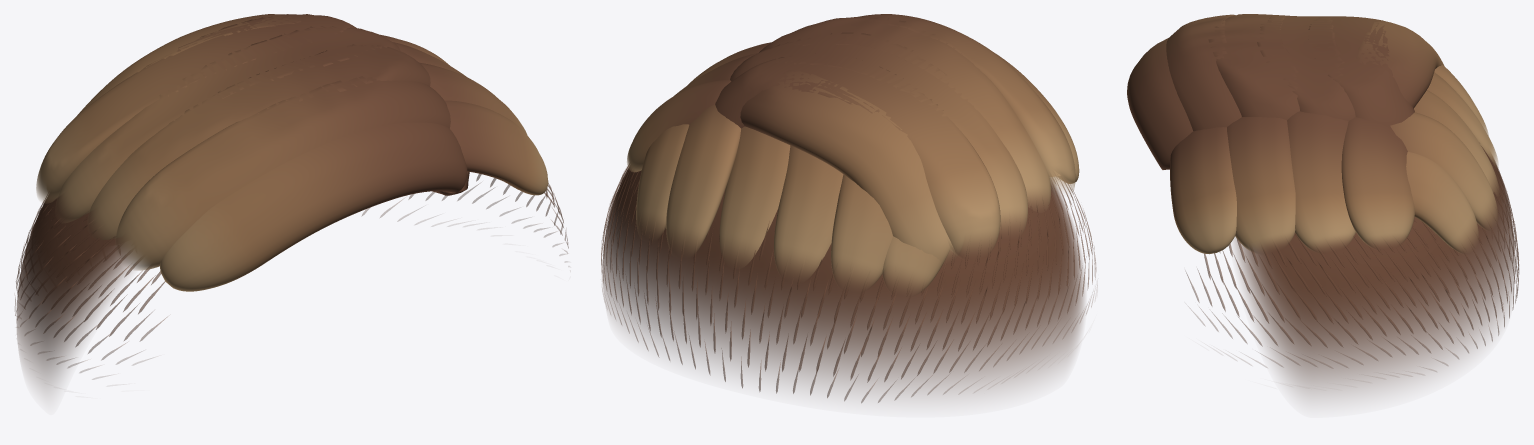
The model's file is Masculine-taper-pashmina259-hair-ombre.glb.
3 views of the same model, side by side, from view 1: azimuth 30°, elevation 25°; view 2: azimuth 150°, elevation 25°; view 3: azimuth 270°, elevation 25° (orthographic). The views are drawn at different scales.
Visible parts, largest first — view 1: 226 hair / Hair258 / sculpted side sweep 1, 226 hair / Hair258 / sculpted side sweep 0, 226 hair / Hair258 / smooth side fade, 226 hair / Hair258 / sculpted side sweep 2, 226 hair / Hair259 / directional fade marks214; view 2: 226 hair / Hair258 / smooth side fade, 226 hair / Hair258 / sculpted side sweep 0, 226 hair / Hair258 / sculpted side sweep 1, 226 hair / Hair258 / sculpted side sweep 2, 226 hair / Hair259 / directional fade marks214; view 3: 226 hair / Hair258 / smooth side fade, 226 hair / Hair258 / sculpted side sweep 0, 226 hair / Hair258 / sculpted side sweep 1, 226 hair / Hair258 / sculpted side sweep 2, 226 hair / Hair259 / directional fade marks214.
Boxes of the visible parts, left/top/right/bottom form: 226 hair / Hair258 / sculpted side sweep 1: left=56, top=26, right=548, bottom=291; 226 hair / Hair258 / sculpted side sweep 0: left=36, top=14, right=527, bottom=270; 226 hair / Hair258 / smooth side fade: left=16, top=191, right=547, bottom=392; 226 hair / Hair258 / sculpted side sweep 2: left=87, top=42, right=466, bottom=240; 226 hair / Hair259 / directional fade marks214: left=15, top=174, right=569, bottom=379; 226 hair / Hair258 / smooth side fade: left=602, top=166, right=1084, bottom=397; 226 hair / Hair258 / sculpted side sweep 0: left=666, top=14, right=1075, bottom=289; 226 hair / Hair258 / sculpted side sweep 1: left=627, top=32, right=1079, bottom=294; 226 hair / Hair258 / sculpted side sweep 2: left=636, top=16, right=1050, bottom=279; 226 hair / Hair259 / directional fade marks214: left=601, top=164, right=1097, bottom=402; 226 hair / Hair258 / smooth side fade: left=1233, top=146, right=1515, bottom=398; 226 hair / Hair258 / sculpted side sweep 0: left=1166, top=14, right=1497, bottom=253; 226 hair / Hair258 / sculpted side sweep 1: left=1127, top=15, right=1498, bottom=254; 226 hair / Hair258 / sculpted side sweep 2: left=1208, top=14, right=1498, bottom=253; 226 hair / Hair259 / directional fade marks214: left=1186, top=157, right=1519, bottom=374.
Size of the model in its own units: 0.9743 by 0.6156 by 0.7585.
